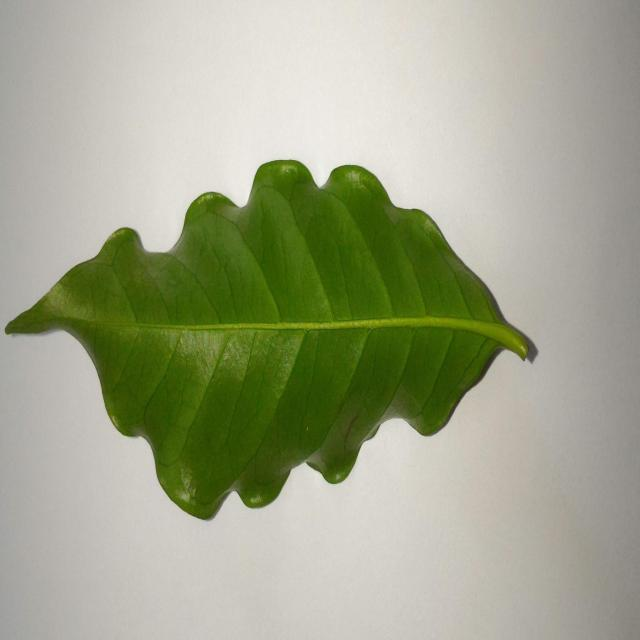nodisease: (6, 160, 537, 518)
